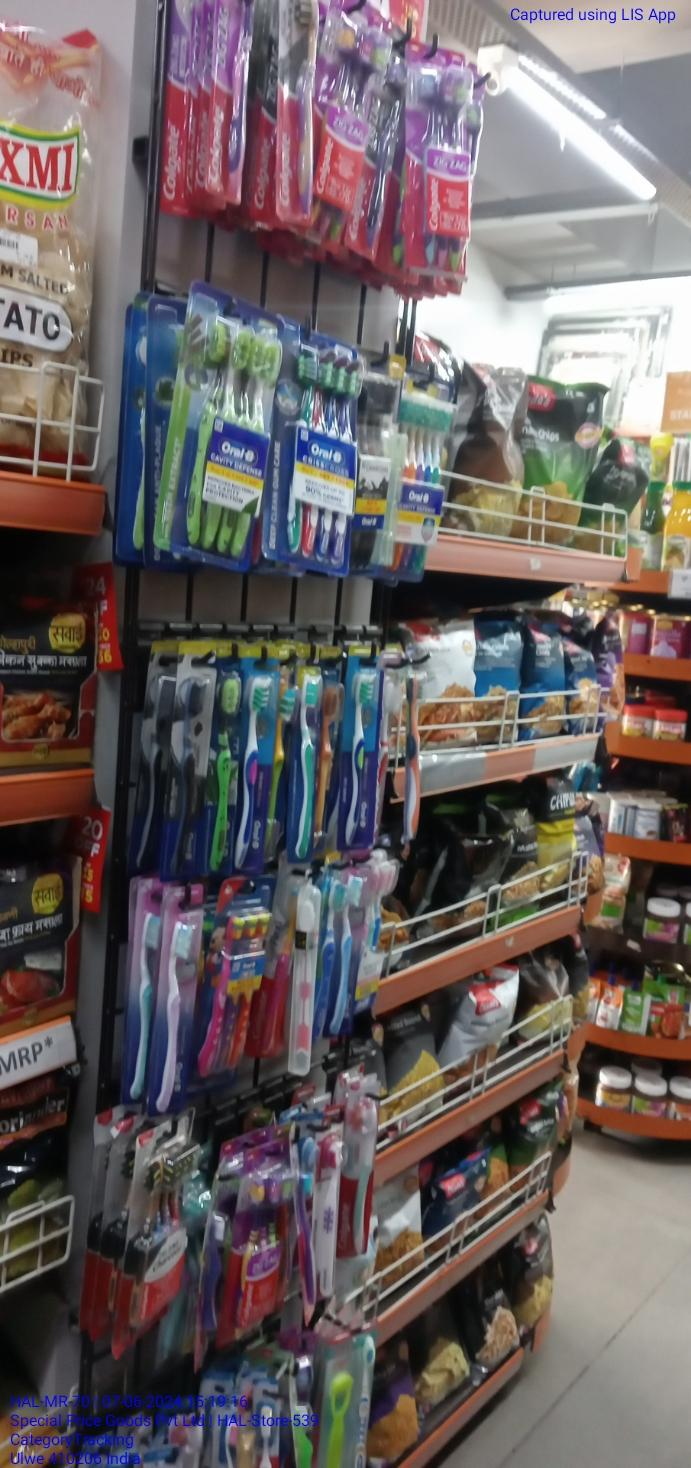liquid soap: (119, 1127, 193, 1346)
